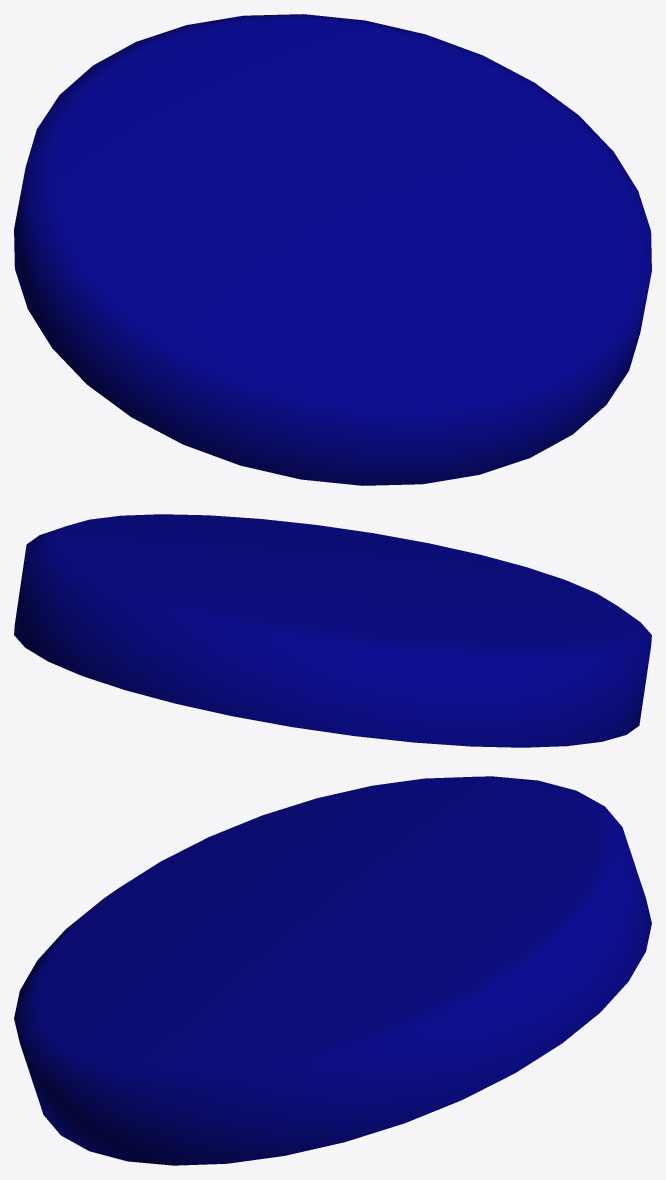
3 views of the same model, one above another, from view 1: azimuth 30°, elevation 25°; view 2: azimuth 150°, elevation 25°; view 3: azimuth 270°, elevation 25° (orthographic).
Parts seen in each view (by area): view 1: b2.002; view 2: b2.002; view 3: b2.002.
Boxes of the visible parts, box(x1,y1,x2,y2) form: b2.002: box(14, 14, 651, 485); b2.002: box(14, 514, 651, 747); b2.002: box(14, 776, 651, 1165).
Size of the model in its own units: 43.07 by 18.07 by 42.84.
